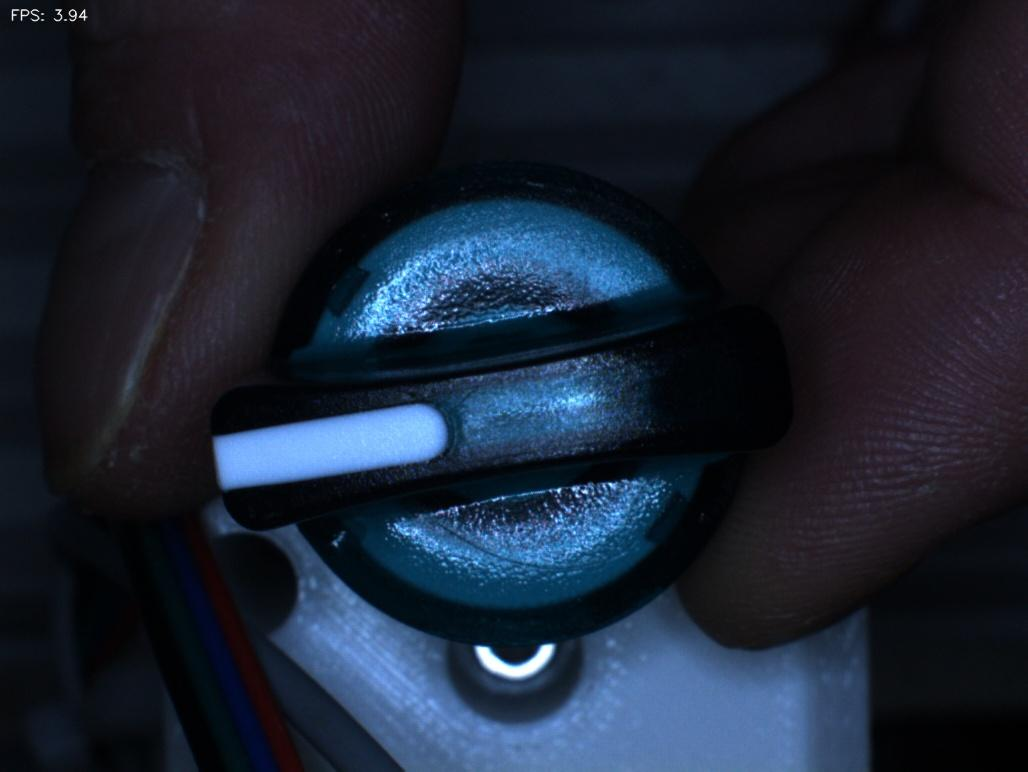Choc: (302, 506, 386, 579)
